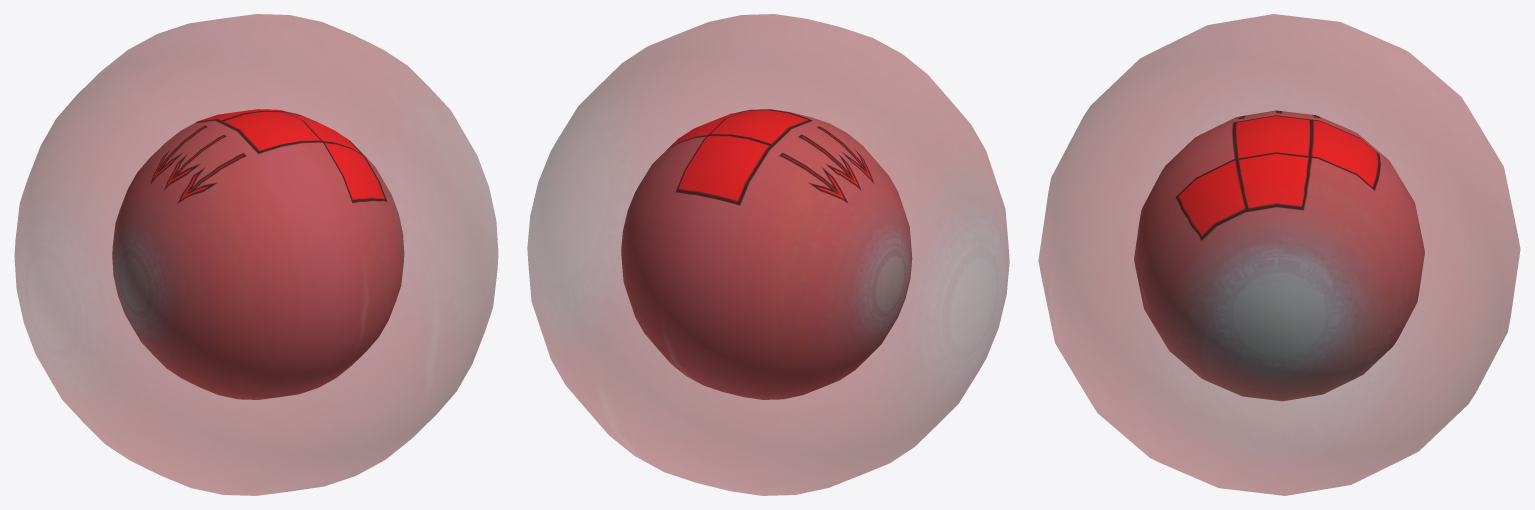
Rendered from Fast Fall Speed.fbx.
3 views of the same model, side by side, from view 1: azimuth 30°, elevation 25°; view 2: azimuth 150°, elevation 25°; view 3: azimuth 270°, elevation 25° (orthographic).
Visible parts, largest first — view 1: polySurface1; view 2: polySurface1; view 3: polySurface1.
Boxes of the visible parts, left/top/right/bottom form: polySurface1: left=14, top=14, right=498, bottom=495; polySurface1: left=527, top=14, right=1009, bottom=495; polySurface1: left=1038, top=14, right=1520, bottom=495.
Size of the model in its own units: 2 by 2 by 2.
2 materials, 2 textured.
